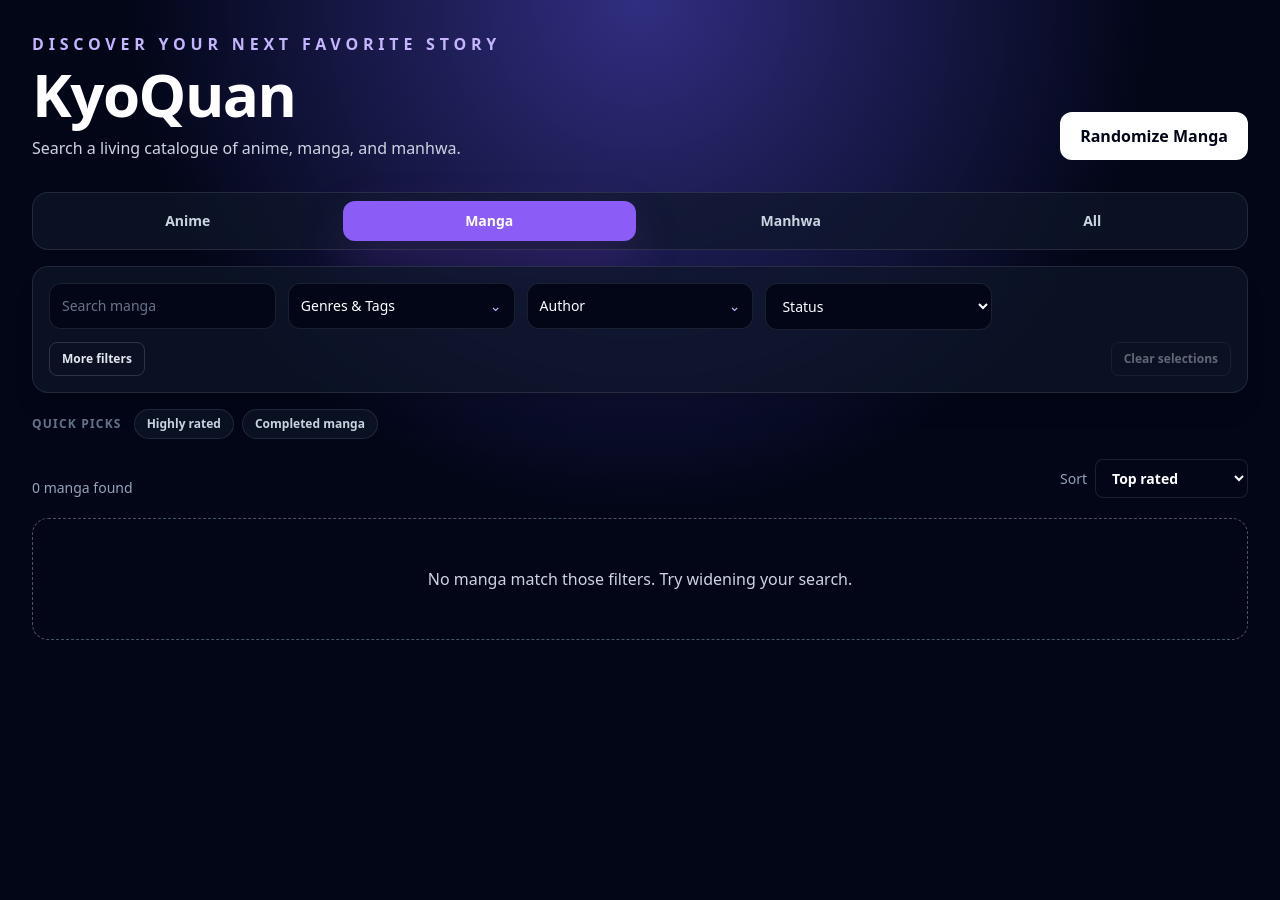
it: catalogue filter integration › Manga authors support searching, selection, chips, and URL state
Click the button "Author ⌄" at coordinates (640, 306), box left=527, top=283, right=753, bottom=329
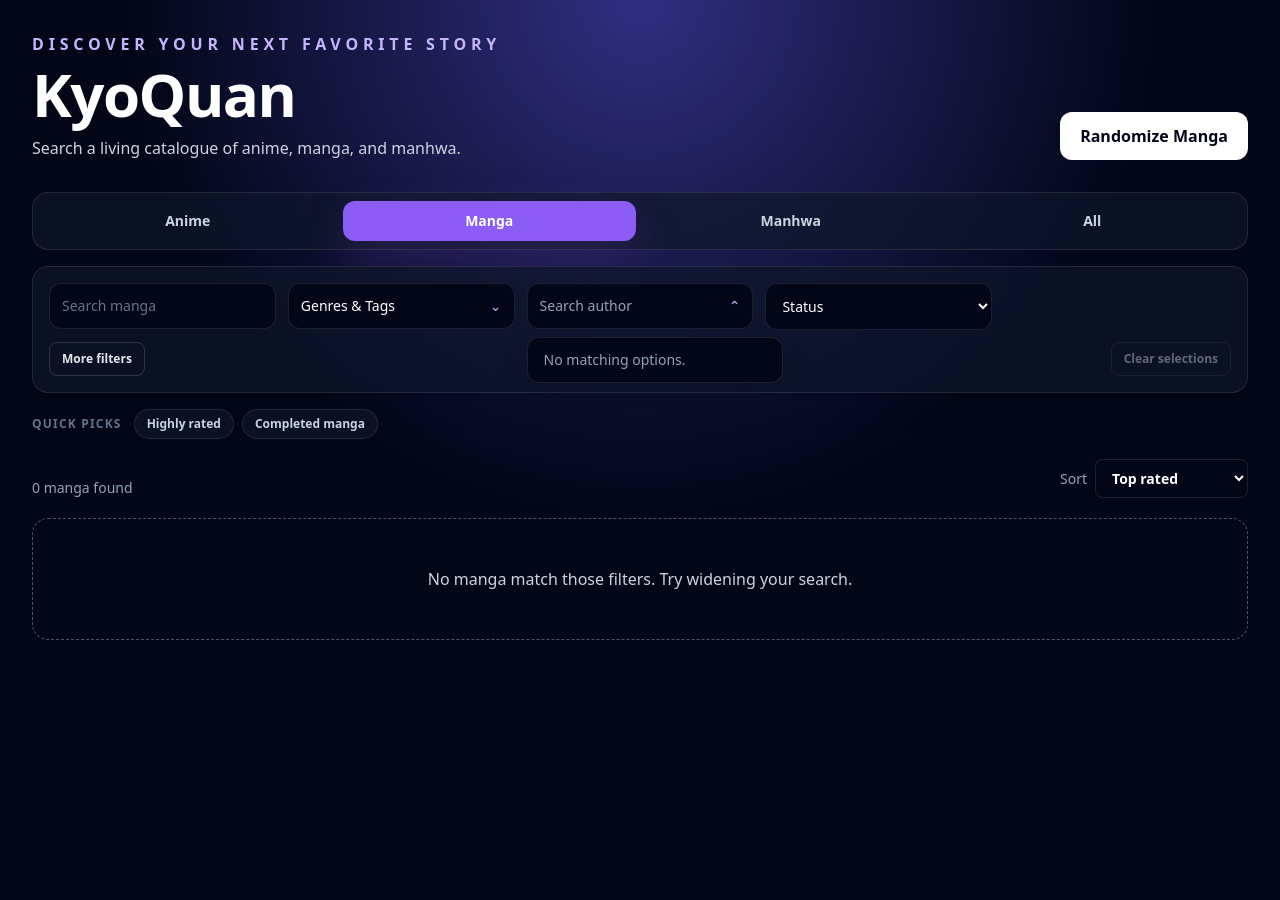
Type "Hiromu" into the dropdown labelled "Search author" at coordinates (630, 306), box left=540, top=296, right=721, bottom=316
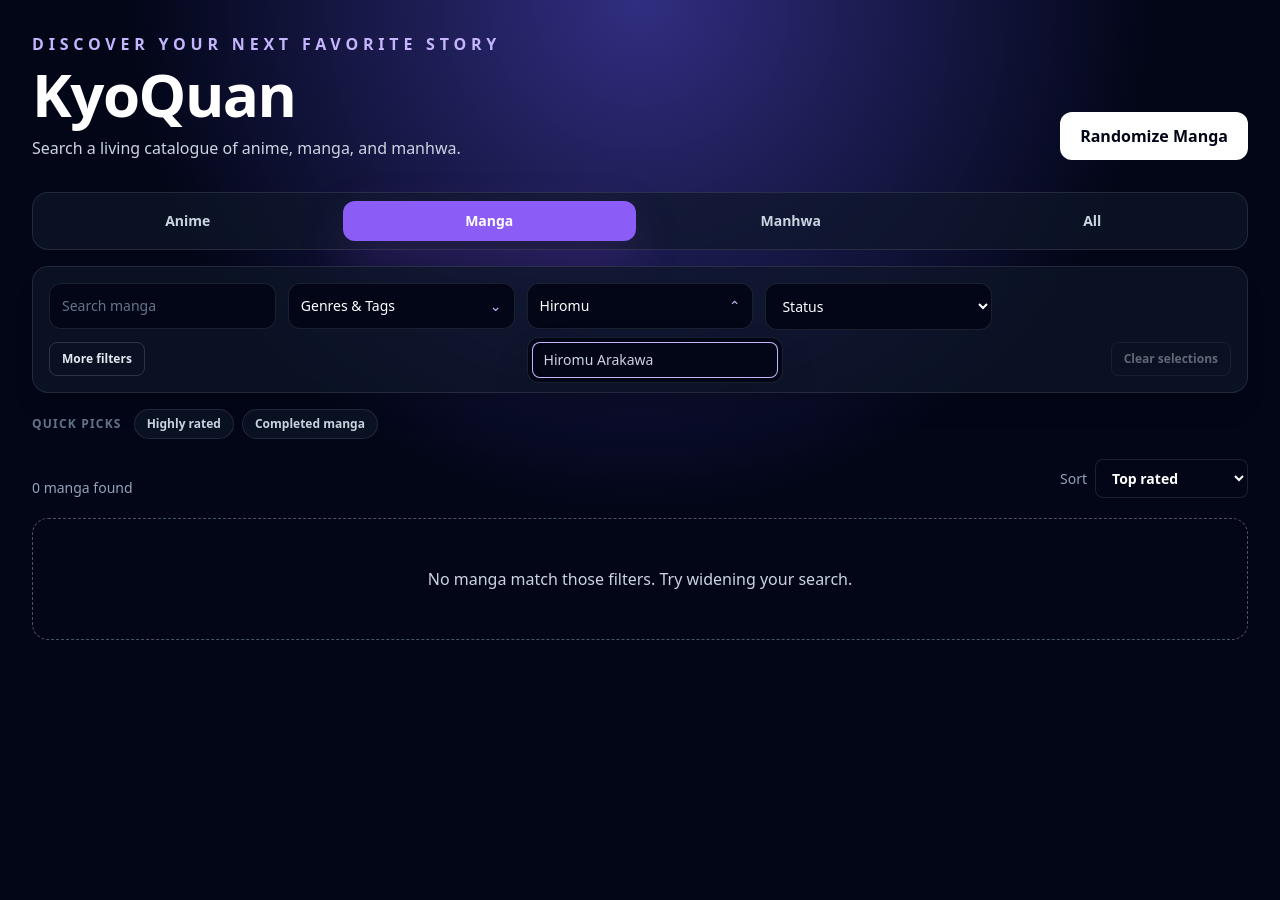
Click the option "Hiromu Arakawa" at coordinates (655, 360), box left=532, top=342, right=778, bottom=378
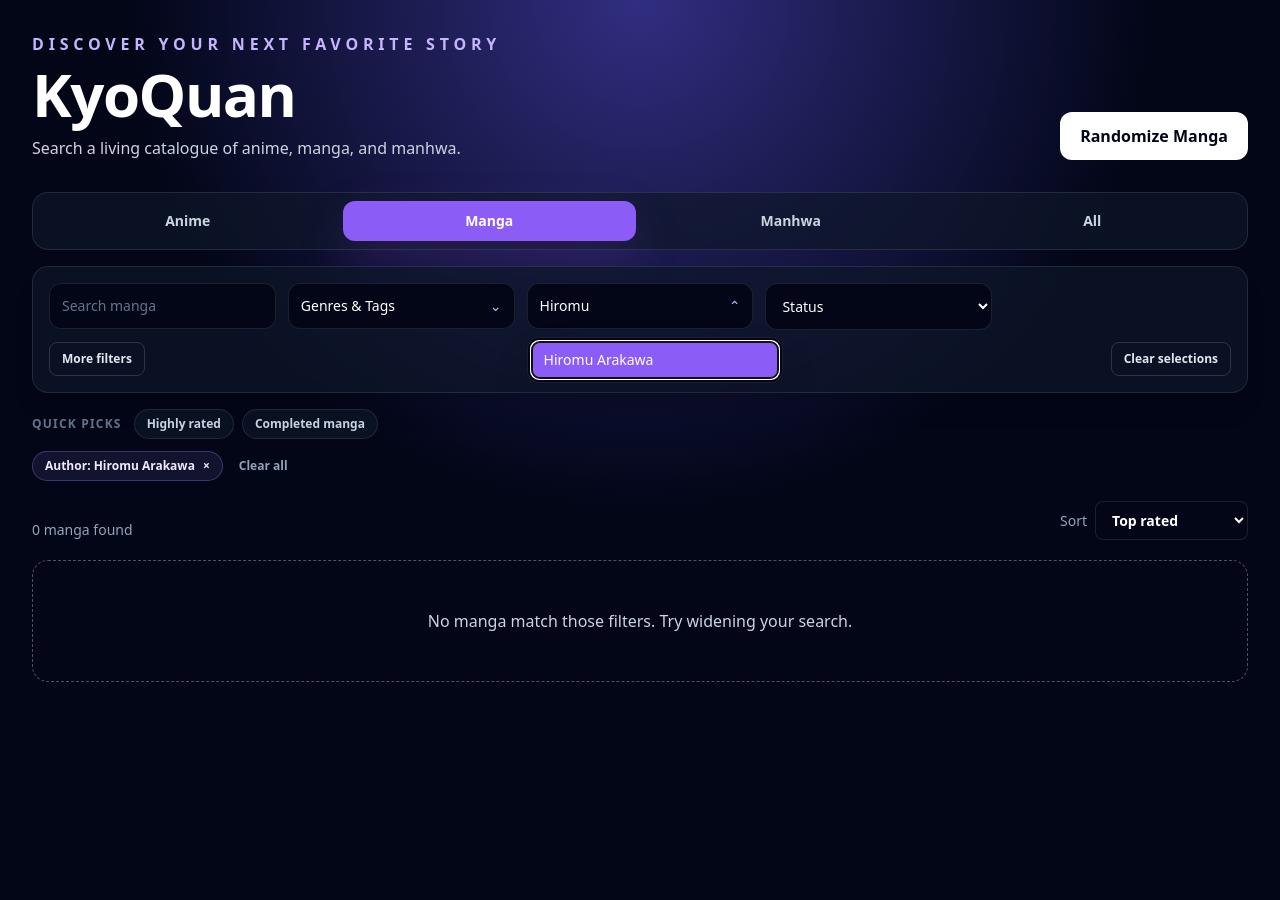
Result: the option "Hiromu Arakawa" is shown at left=532, top=342, right=778, bottom=378
Result: the button "Author: Hiromu Arakawa ×" is shown at left=32, top=451, right=223, bottom=481
